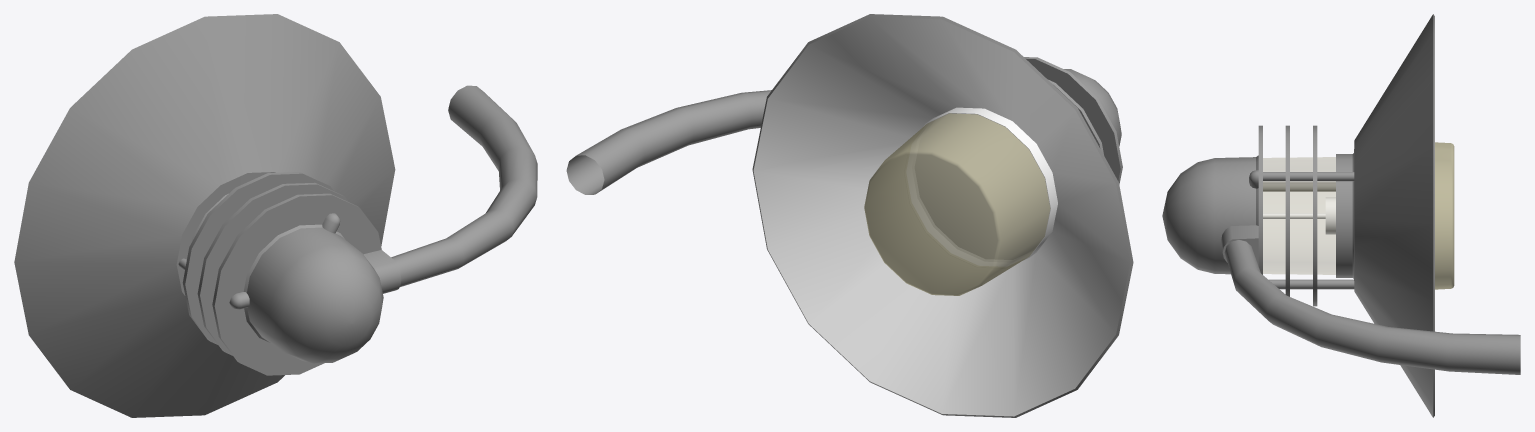
Rendered from Nyhavn_Park.obj.
3 renders of one model, left to right at view 1: azimuth 30°, elevation 25°; view 2: azimuth 150°, elevation 25°; view 3: azimuth 270°, elevation 25°, orthographic. The views are drawn at different scales.
Visible parts, largest first — view 1: BezierCurve.002, BezierCurve.001, Cylinder.002, Sphere; view 2: BezierCurve.002, Glas, BezierCurve.001; view 3: BezierCurve.002, BezierCurve.001, Glas, Cylinder.001, Cylinder.002.
Boxes of the visible parts, x1,y1,x2,y2 form: BezierCurve.002: (14,14,395,417); BezierCurve.001: (391,85,537,286); Cylinder.002: (363,250,401,293); Sphere: (229,213,340,309); BezierCurve.002: (752,14,1133,417); Glas: (864,113,1050,295); BezierCurve.001: (566,90,771,194); BezierCurve.002: (1162,14,1434,417); BezierCurve.001: (1224,240,1520,374); Glas: (1263,142,1454,289); Cylinder.001: (1263,172,1354,289); Cylinder.002: (1221,225,1258,265).
Size of the model in its own units: 1.04 by 0.7613 by 0.6746.
4 materials, 2 textured.
